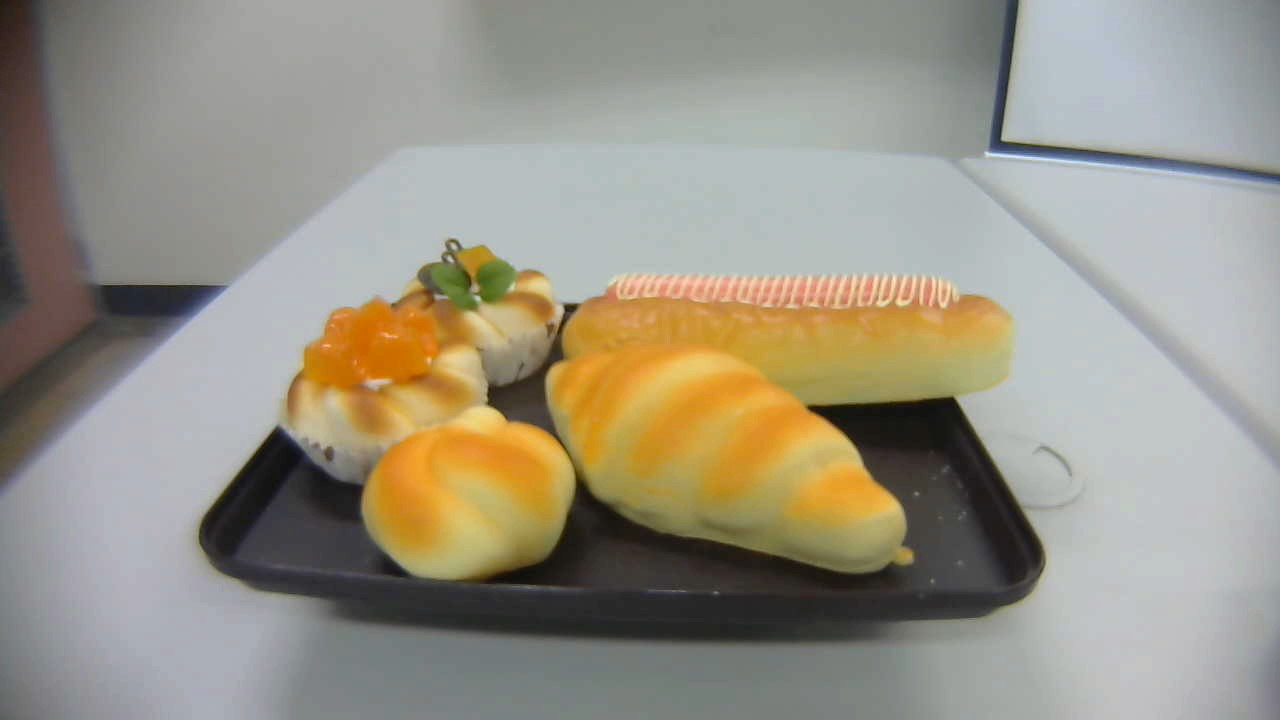croissant: (545, 340, 913, 573)
fruit tart: (394, 237, 564, 386)
hot dog: (562, 272, 1014, 408)
mango tart: (280, 296, 487, 484)
twist bread: (362, 405, 580, 584)
